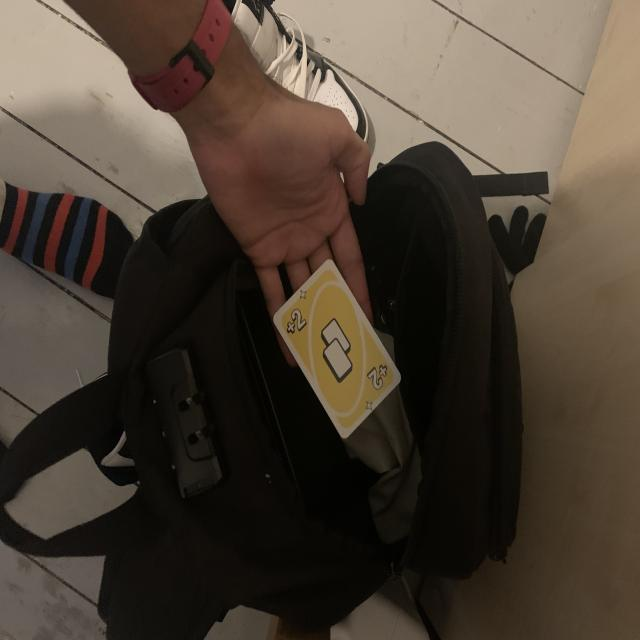lyellow-20: (280, 306, 312, 342)
